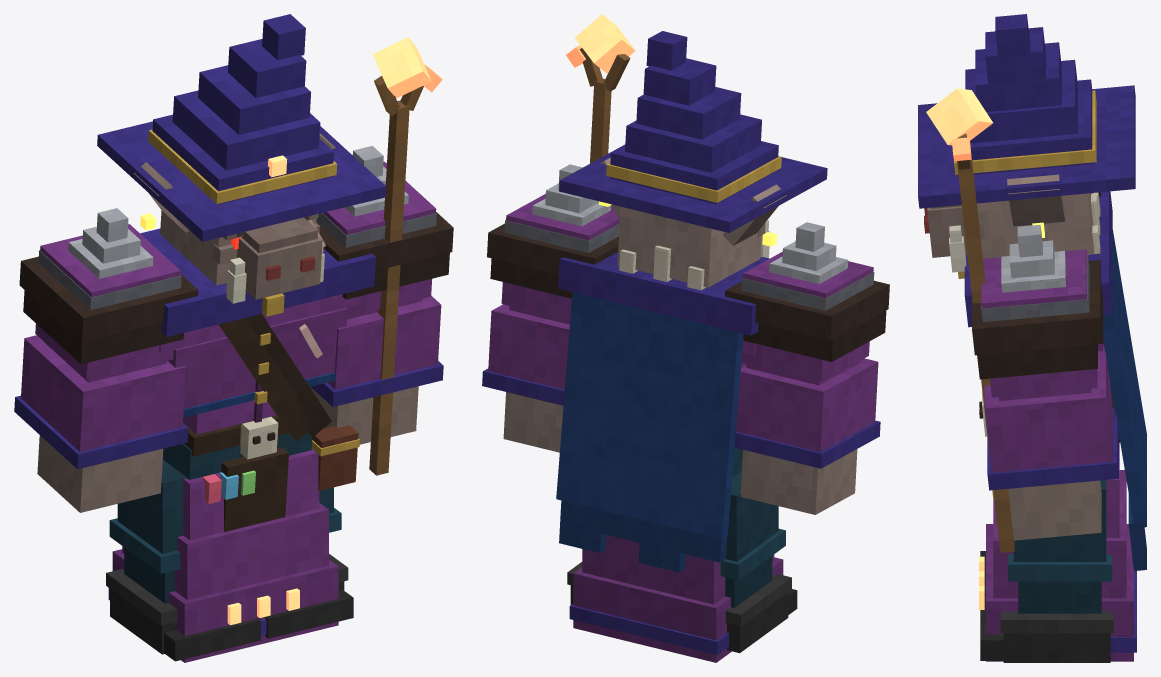
The model's file is orc_mage_v3.glb.
3 renders of one model, left to right at view 1: azimuth 30°, elevation 25°; view 2: azimuth 150°, elevation 25°; view 3: azimuth 270°, elevation 25°, orthographic. The views are drawn at different scales.
Visible parts, largest first — view 1: Head, ArmR, Torso, ArmL, Root, LegR, HandL, LegL; view 2: Torso, ArmR, Head, ArmL, Root, LegR, HandL; view 3: ArmL, Head, LegL, Torso, Root, HandL.
Part boxes in pixels (x1,y1,x2,y2): Head: [97, 14, 386, 303]; ArmR: [14, 208, 198, 512]; Torso: [140, 228, 375, 531]; ArmL: [310, 146, 453, 444]; Root: [108, 449, 338, 662]; LegR: [106, 459, 260, 661]; HandL: [369, 37, 442, 475]; LegL: [265, 487, 353, 638]; Torso: [556, 245, 769, 572]; ArmR: [725, 222, 889, 514]; Head: [559, 31, 827, 287]; ArmL: [482, 164, 619, 452]; Root: [569, 535, 783, 662]; LegR: [720, 470, 797, 653]; HandL: [566, 14, 635, 163]; ArmL: [972, 224, 1118, 540]; Head: [918, 14, 1135, 272]; LegL: [980, 480, 1113, 662]; Torso: [958, 191, 1146, 570]; Root: [979, 443, 1136, 661]; HandL: [926, 88, 1014, 552].
Bounding box in the file's own units: 1.44 × 2.24 × 0.7499.
46 materials, 46 textured.
